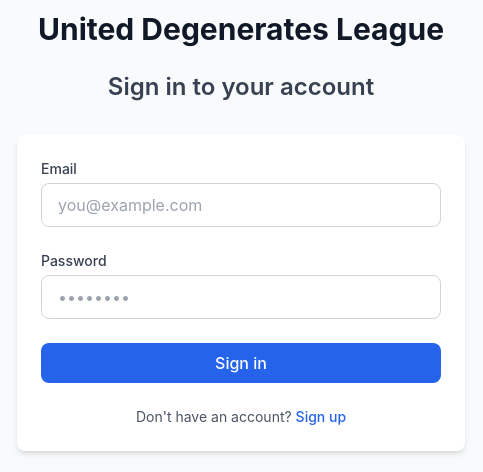
Test case: Login — successful submission › shows loading text while submitting
Type "alice@example.com" into the field labelled "Email" at (241, 205), box [41,183,441,227]
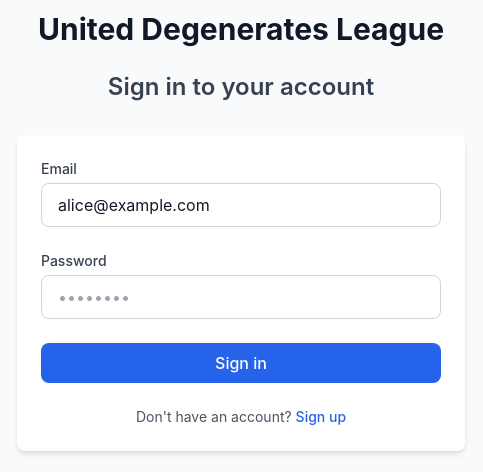
Type "hunter2" into the password field labelled "Password" at (241, 297), box [41,275,441,319]
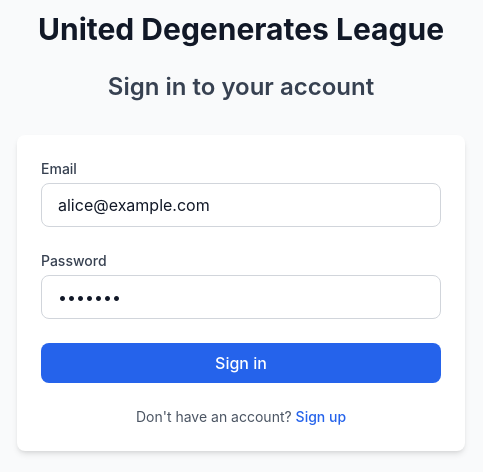
Click the button "Sign in" at (241, 363), box [41,343,441,383]
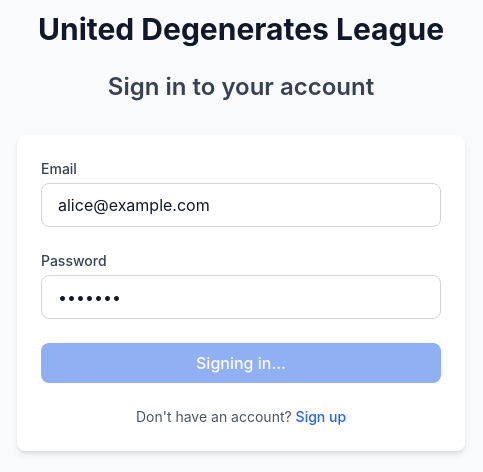
Now the button "Signing in..." is disabled, box [41,343,441,383]
